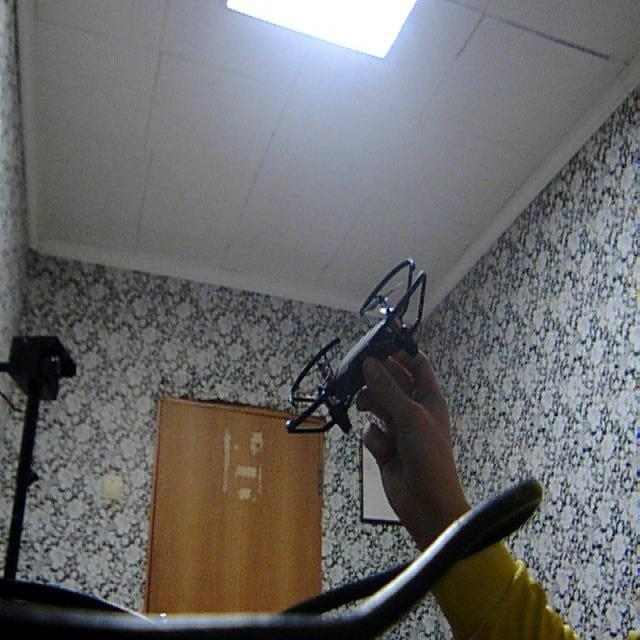drone: (280, 259, 442, 466)
